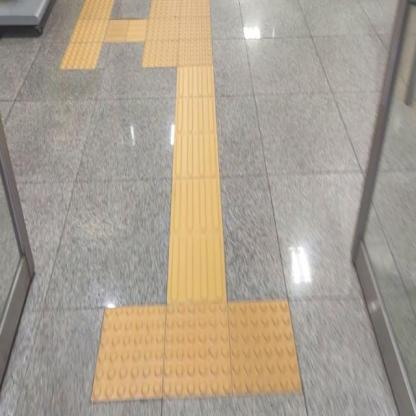podotacti: (89, 302, 296, 405), (167, 69, 224, 300), (63, 0, 110, 69), (106, 20, 145, 42)
